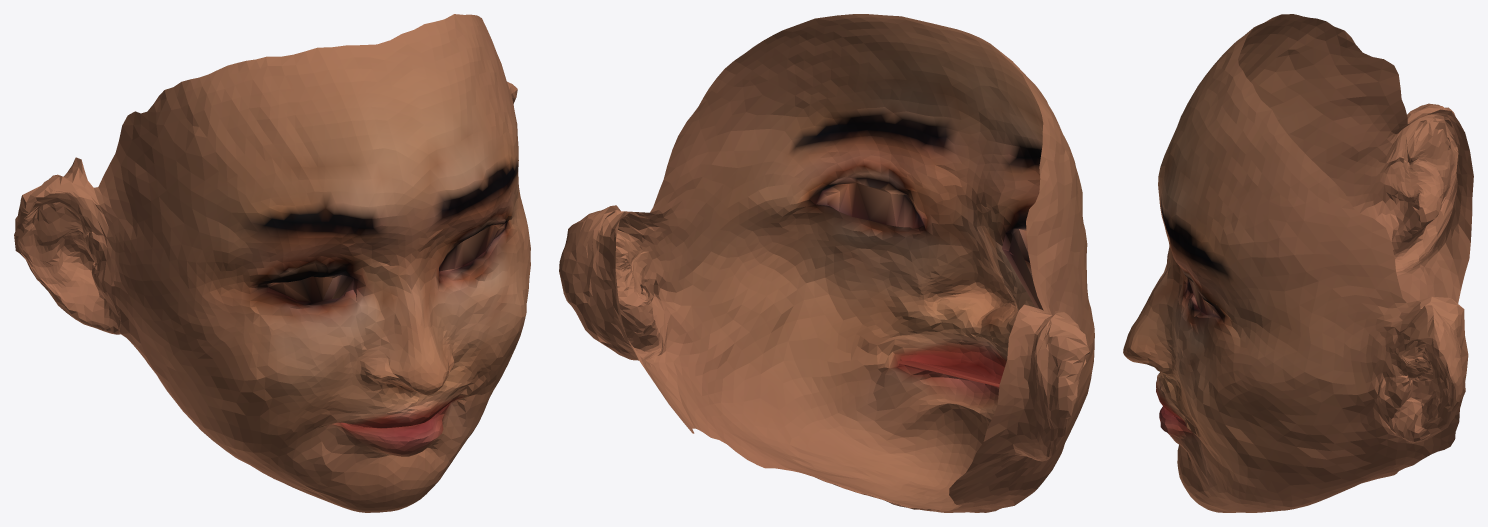
The model's file is seed0003.obj.
The picture shows the model from 3 angles, left to right: view 1: azimuth 30°, elevation 25°; view 2: azimuth 150°, elevation 25°; view 3: azimuth 270°, elevation 25°; orthographic projection. The views are drawn at different scales.
Bounding box in the file's own units: 236 × 209 × 149.
